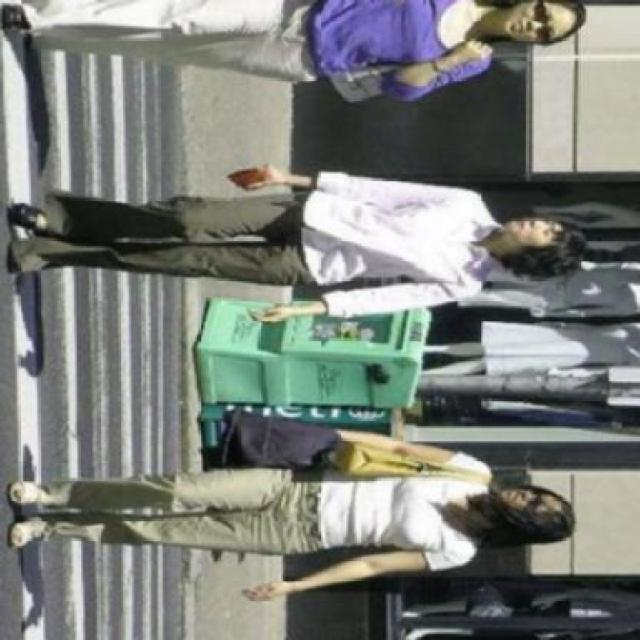Person: (4, 162, 588, 330), (8, 430, 575, 599), (0, 0, 586, 106)
